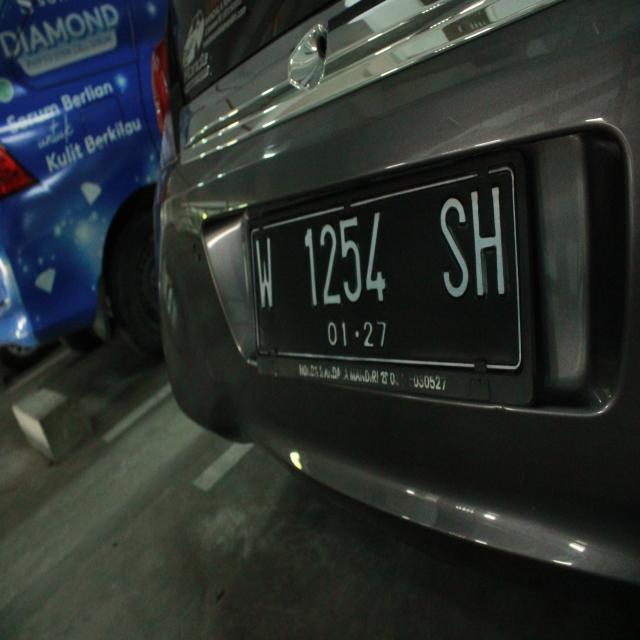1: (295, 218, 328, 320)
2: (314, 218, 351, 316)
4: (352, 202, 404, 325)
5: (334, 212, 374, 312)
H: (458, 175, 522, 318)
S: (426, 194, 478, 308)
W: (246, 225, 286, 326)
